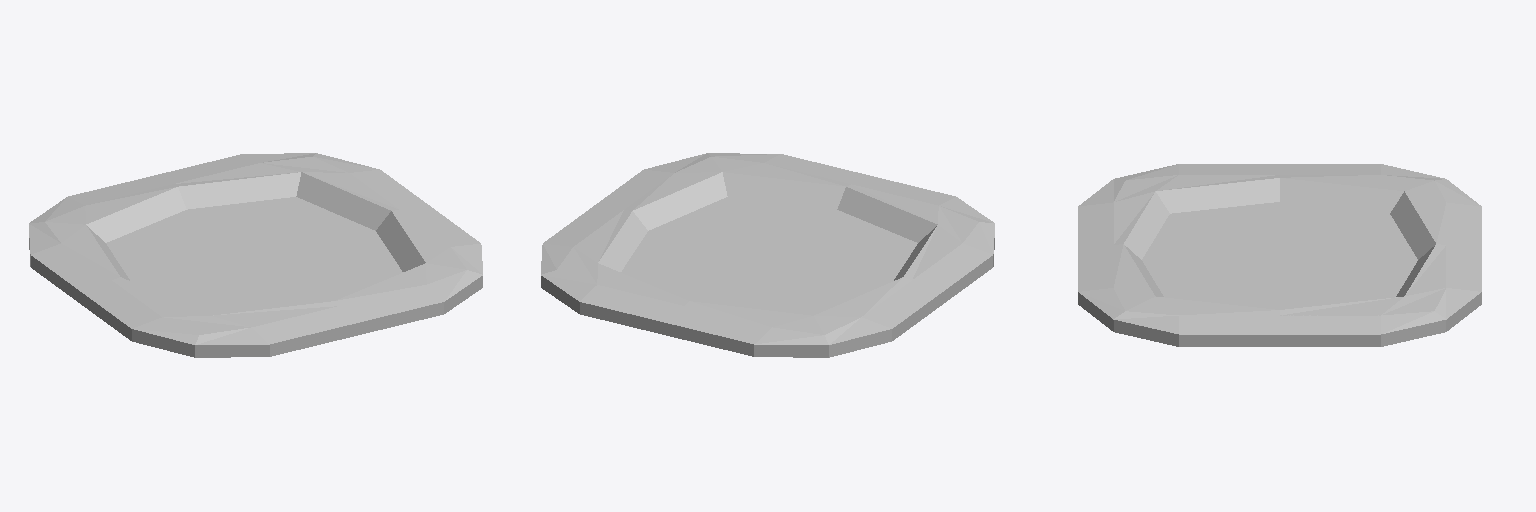
The model's file is lava_pool.obj.
3 views of the same model, side by side, from view 1: azimuth 30°, elevation 25°; view 2: azimuth 150°, elevation 25°; view 3: azimuth 270°, elevation 25° (orthographic).
Visible parts, largest first — view 1: Cube; view 2: Cube; view 3: Cube.
Part boxes in pixels (x1,y1,x2,y2): Cube: (29, 153, 482, 357); Cube: (541, 153, 994, 357); Cube: (1078, 164, 1481, 346).
Size of the model in its own units: 6.17 by 0.4073 by 6.17.